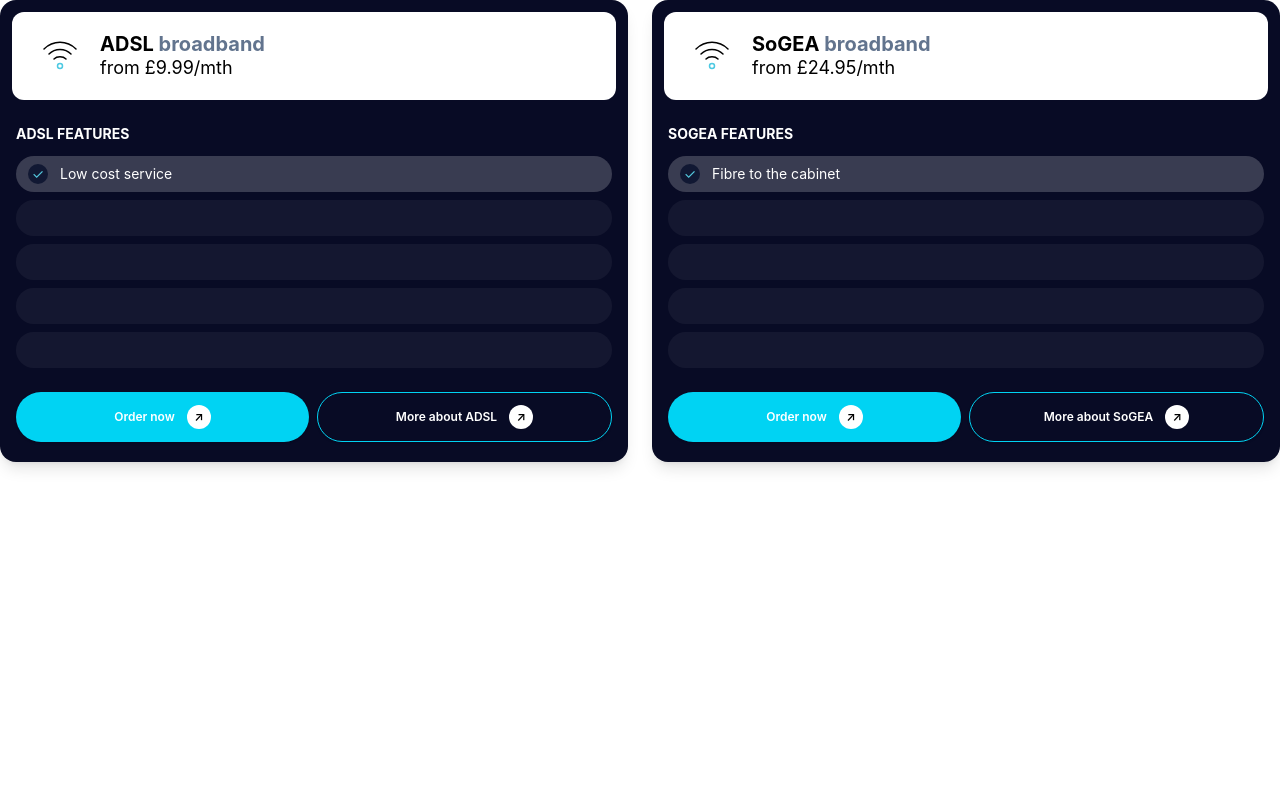
PurchaseFlow › transitions to checkout when a package is selected
This screenshot has width=1280, height=800.
Click the button "Order now ↗" below "Fibre to the cabinet": (814, 417) [668,392,961,442]
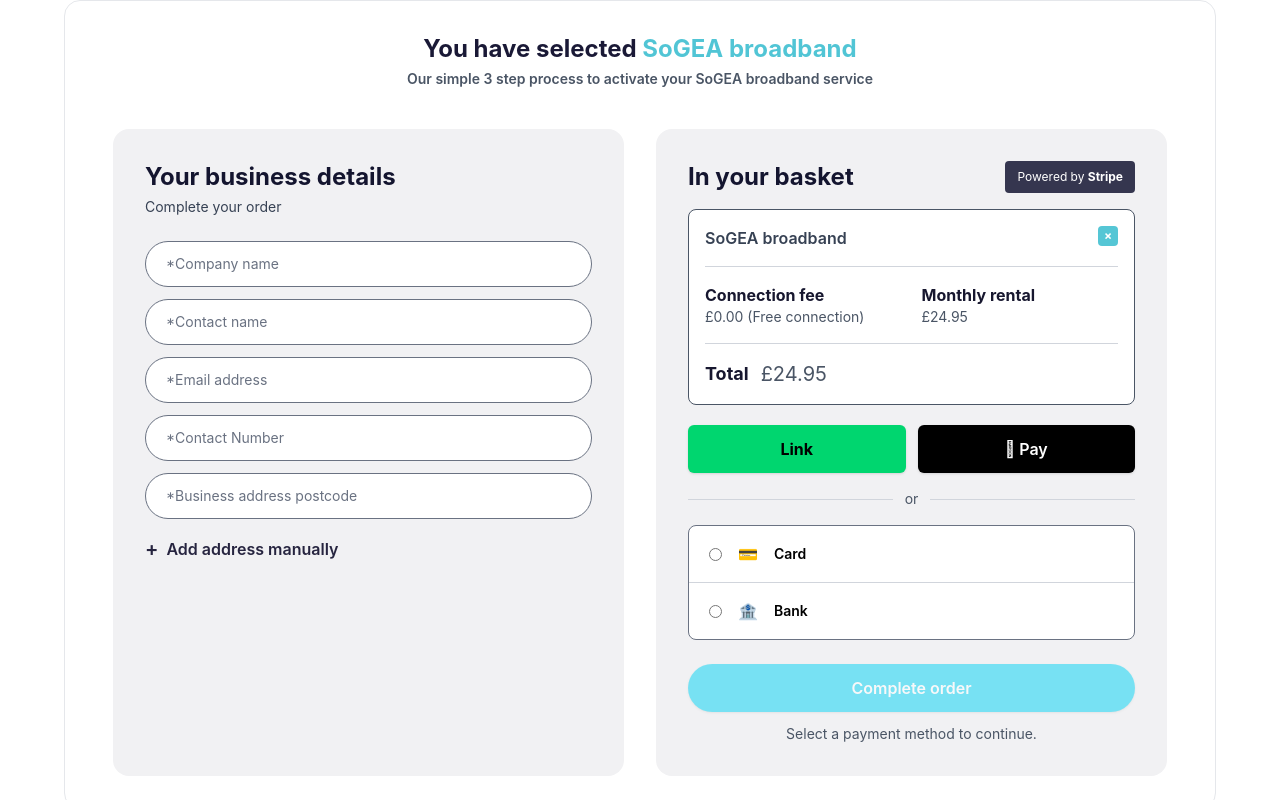
Result: the heading "You have selected SoGEA broadband" is shown at [423,34,857,63]
Result: the heading "Your business details" is shown at [145,162,396,191]
Result: the heading "In your basket" is shown at [688,161,854,193]
